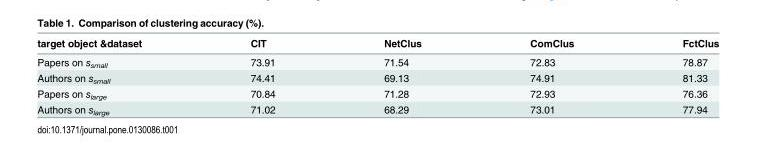table: (36, 36, 718, 115)
table column: (36, 36, 195, 115), (475, 36, 627, 115), (328, 36, 475, 115), (195, 36, 328, 115), (627, 36, 718, 115)
table column header: (36, 36, 718, 52)
table row: (36, 52, 718, 70), (36, 36, 718, 52), (36, 85, 718, 101), (36, 70, 718, 85), (36, 101, 718, 115)
